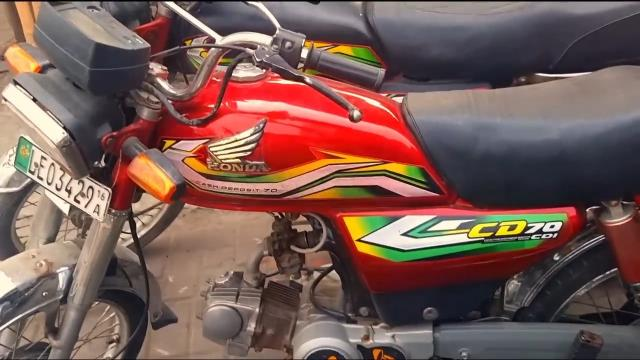plate: (13, 137, 110, 222)
